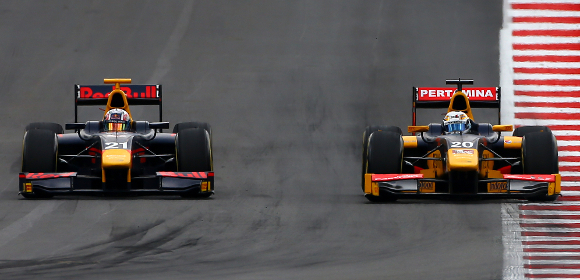race car: (358, 77, 563, 205), (16, 77, 216, 203)
